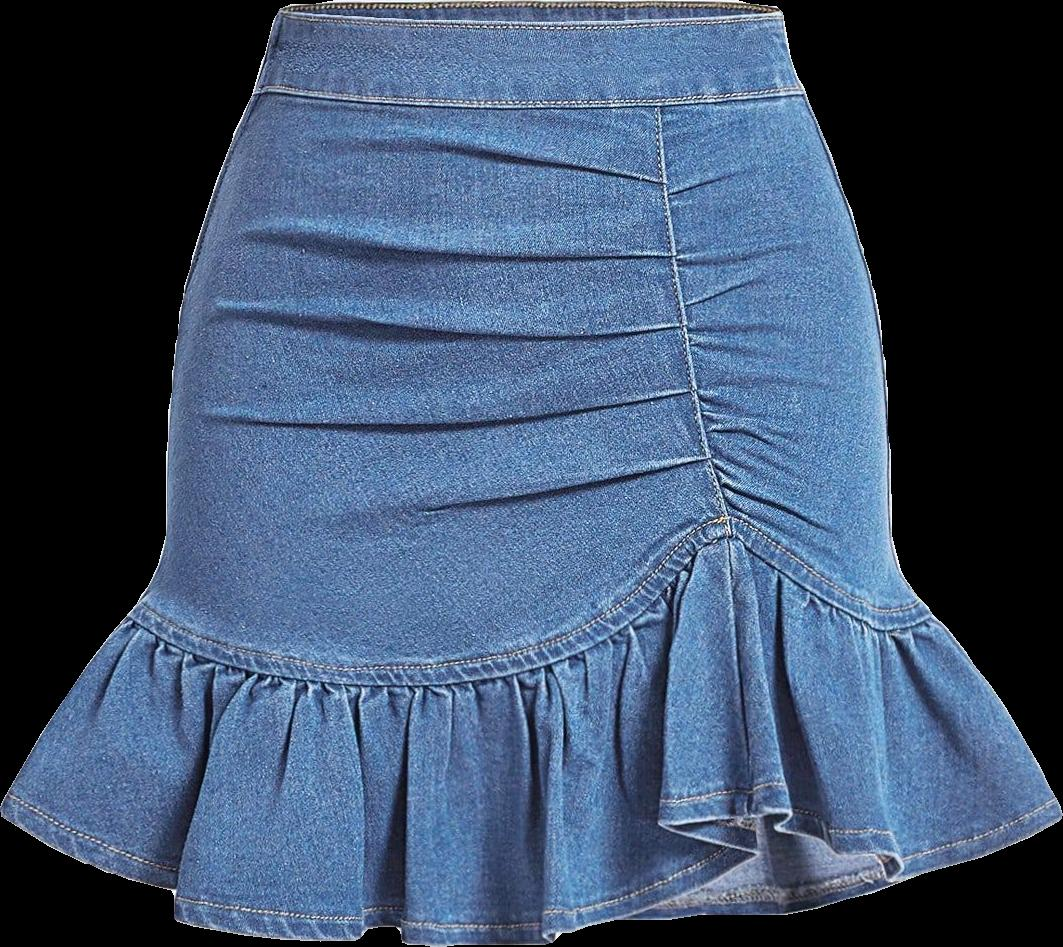Hemline: (0, 806, 1062, 946)
Waistline: (128, 533, 944, 696), (652, 109, 733, 538), (248, 86, 811, 118), (273, 5, 779, 37)
